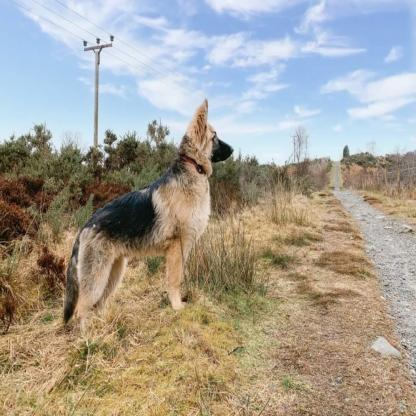german shepherd: (62, 96, 231, 347)
